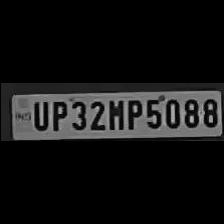0: (162, 96, 180, 128)
2: (86, 97, 104, 130)
3: (66, 97, 86, 130)
5: (141, 96, 161, 130)
8: (181, 96, 199, 128), (200, 96, 218, 128)
M: (105, 97, 124, 130)
P: (48, 98, 68, 132), (123, 96, 141, 130)
U: (28, 98, 48, 132)
